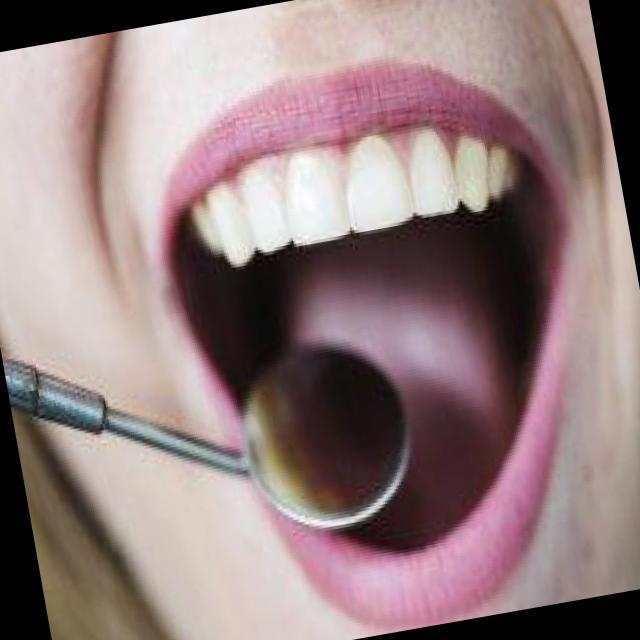Tooth: (343, 134, 413, 233), (285, 146, 351, 249), (231, 154, 292, 252), (402, 126, 459, 215), (203, 180, 256, 267), (453, 135, 488, 211), (190, 202, 224, 254), (488, 146, 507, 198)
